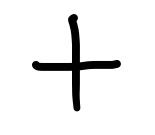plus: (32, 14, 120, 111)
